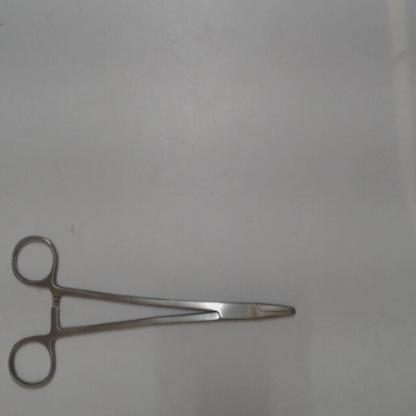8 Mayo Needle Holder: (2, 223, 304, 400)
